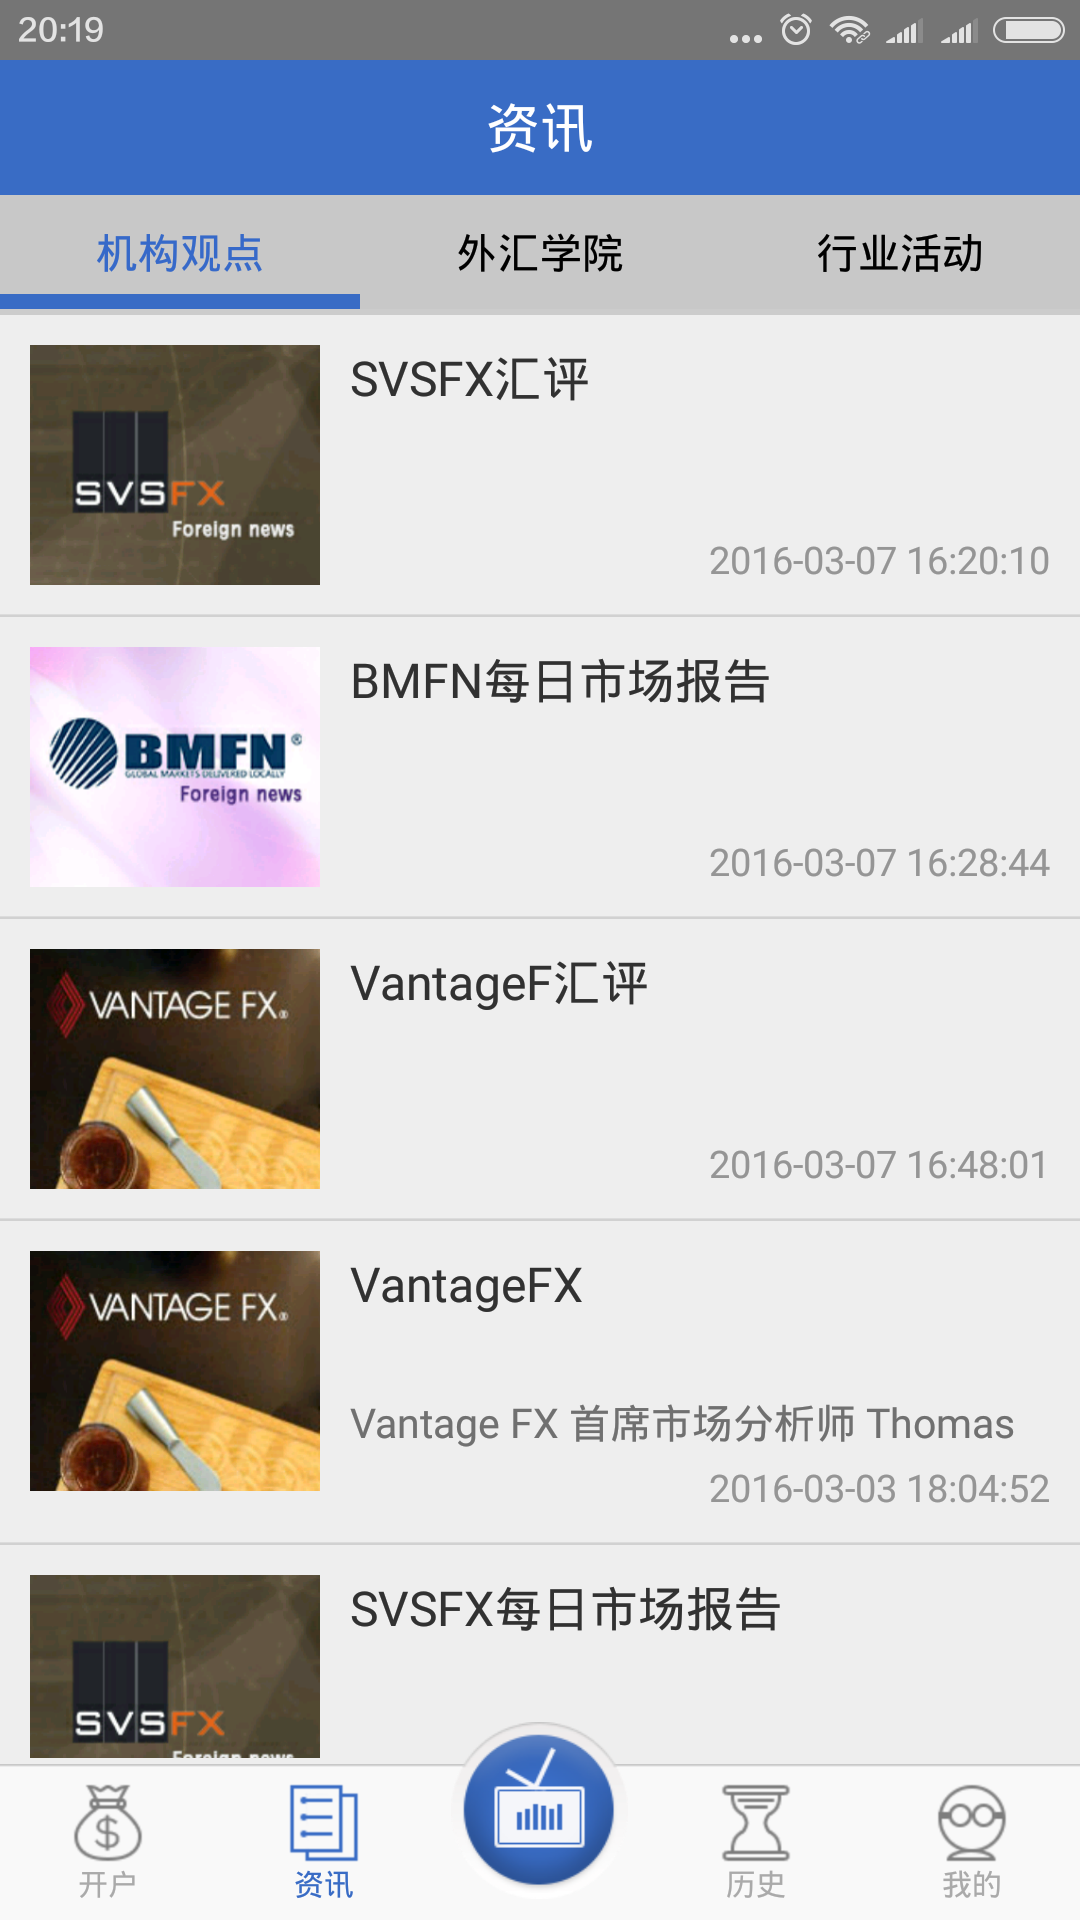nav: (3, 1755, 1080, 1917)
